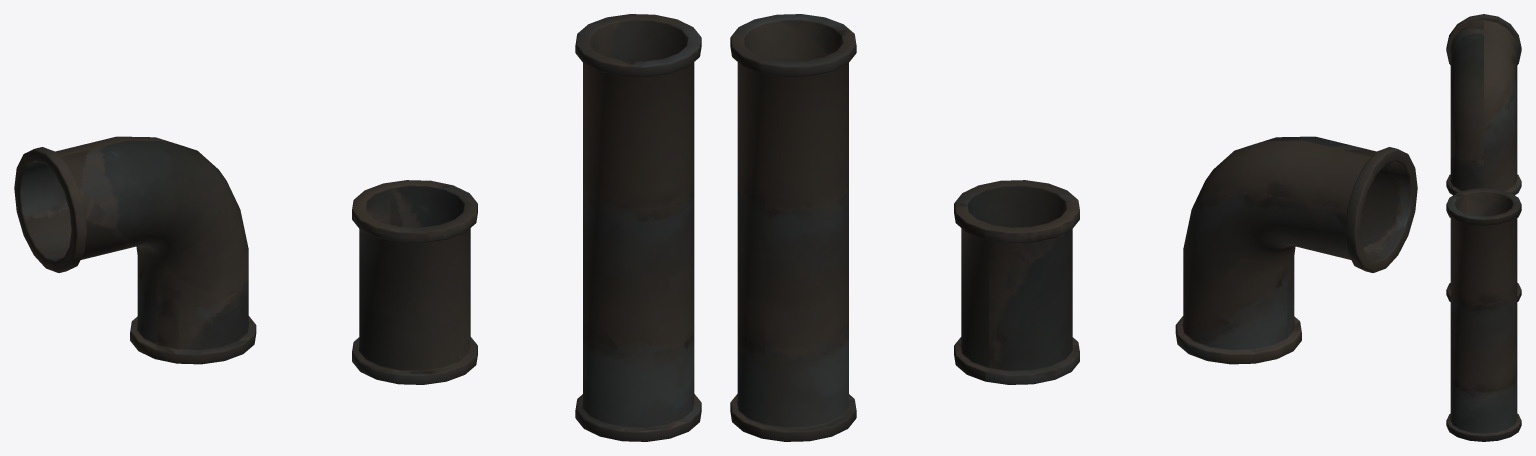
The model's file is Tubes.fbx.
3 views of the same model, side by side, from view 1: azimuth 30°, elevation 25°; view 2: azimuth 150°, elevation 25°; view 3: azimuth 270°, elevation 25° (orthographic). The views are drawn at different scales.
Parts seen in each view (by area): view 1: Tube, TubeRotated, TubeElement; view 2: Tube, TubeRotated, TubeElement; view 3: Tube, TubeRotated, TubeElement.
Boxes of the visible parts, x1,y1,x2,y2 form: Tube: [575, 14, 701, 441]; TubeRotated: [14, 136, 256, 364]; TubeElement: [352, 180, 477, 384]; Tube: [730, 14, 856, 441]; TubeRotated: [1175, 136, 1417, 364]; TubeElement: [954, 180, 1079, 384]; Tube: [1446, 188, 1521, 441]; TubeRotated: [1446, 14, 1521, 195]; TubeElement: [1446, 210, 1521, 301].
Bounding box in the file's own units: 535 × 321 × 90.91.
